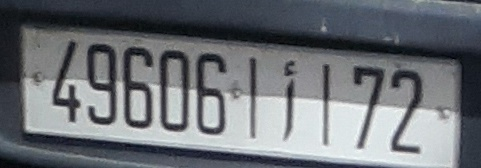0: (157, 45, 194, 133)
2: (387, 68, 432, 157)
4: (45, 37, 84, 126)
6: (195, 47, 231, 138), (120, 42, 154, 133)
7: (346, 60, 388, 152)
9: (85, 39, 118, 127)
a: (274, 58, 304, 147)
